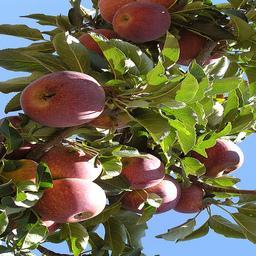apple: (18, 70, 105, 126), (39, 178, 107, 224), (113, 2, 170, 44), (42, 143, 102, 178), (198, 137, 244, 178), (171, 179, 204, 214)
